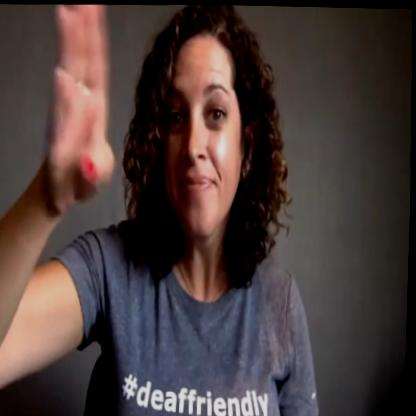Hello: (19, 0, 302, 285)
